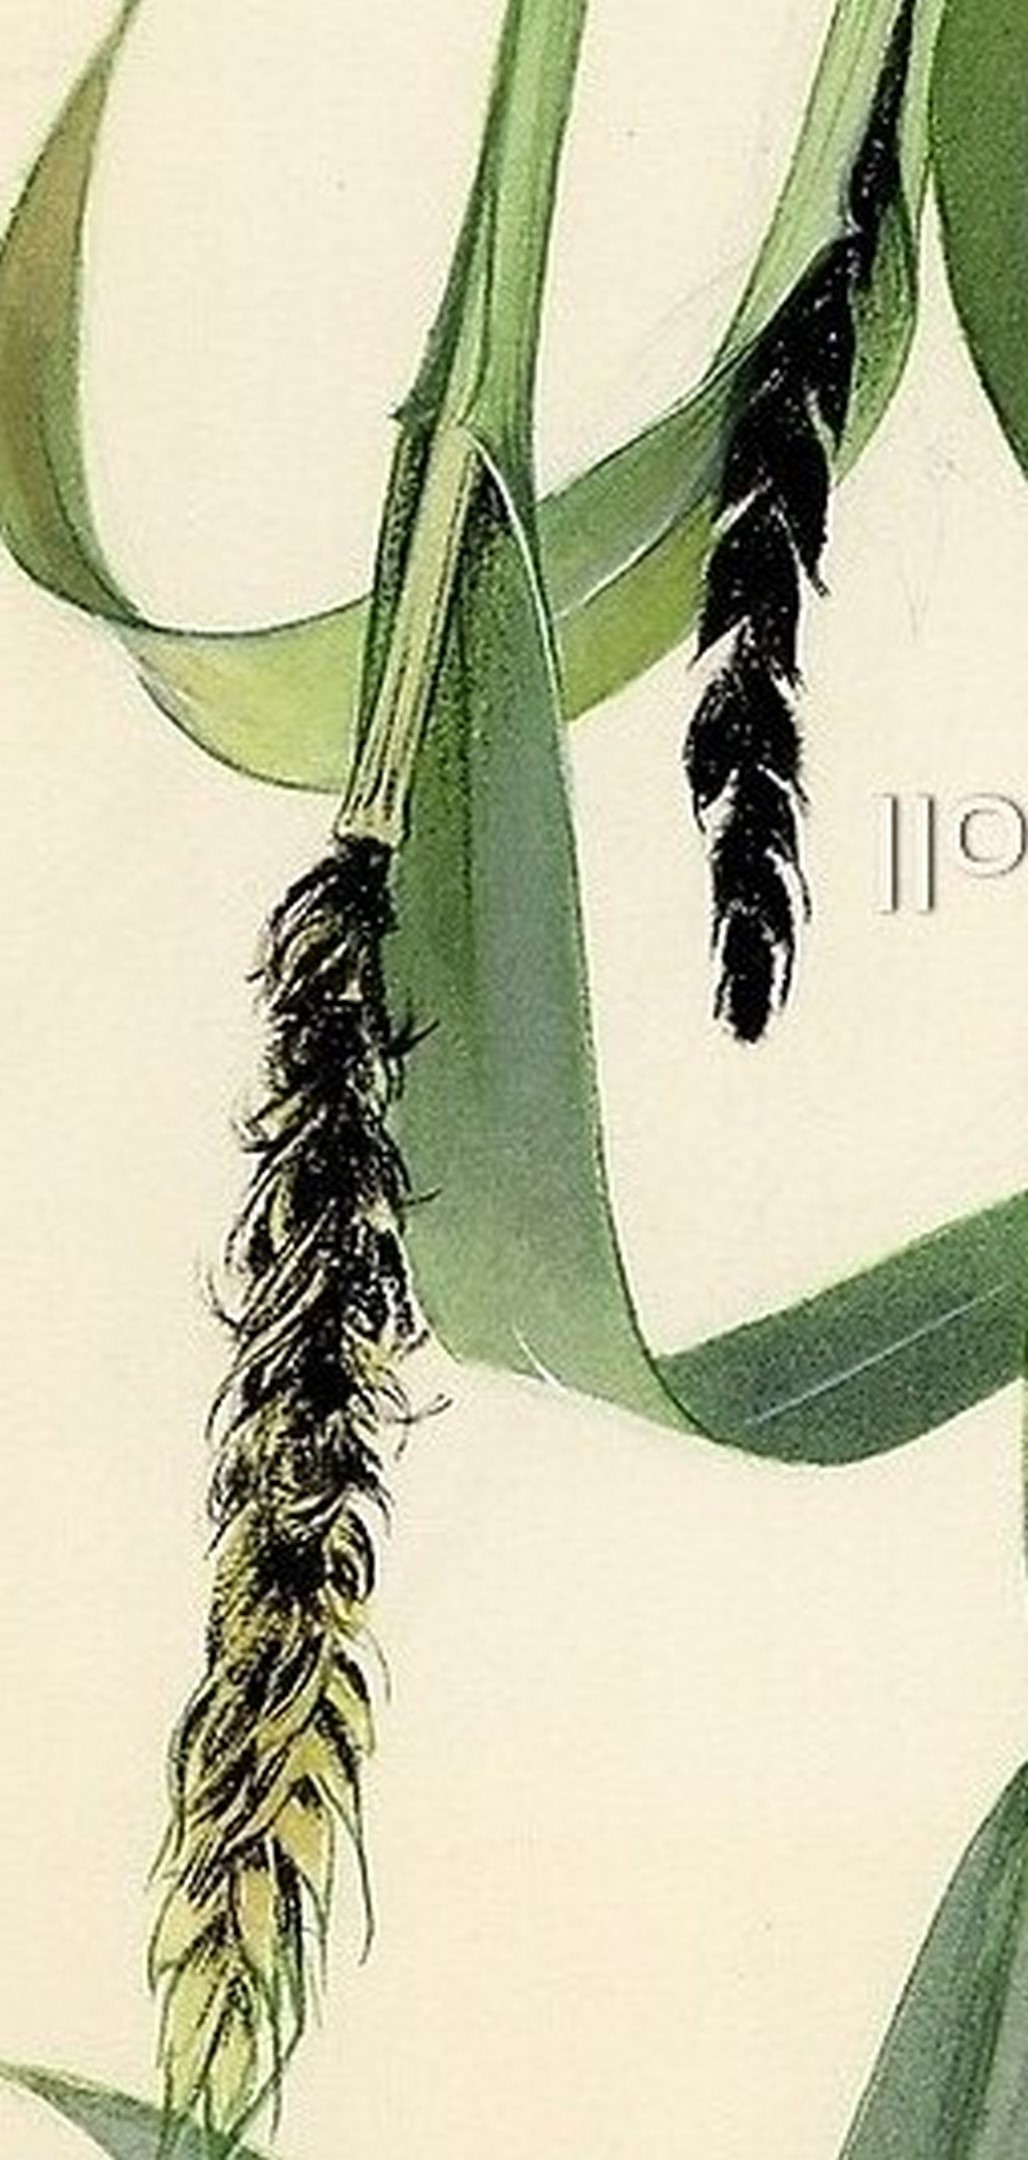Wheat Loose Smut: (136, 770, 485, 2013)
